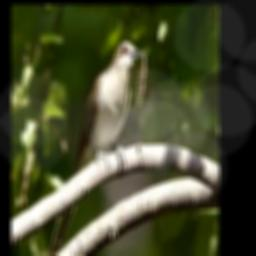Cuckoo: (50, 41, 143, 256)
